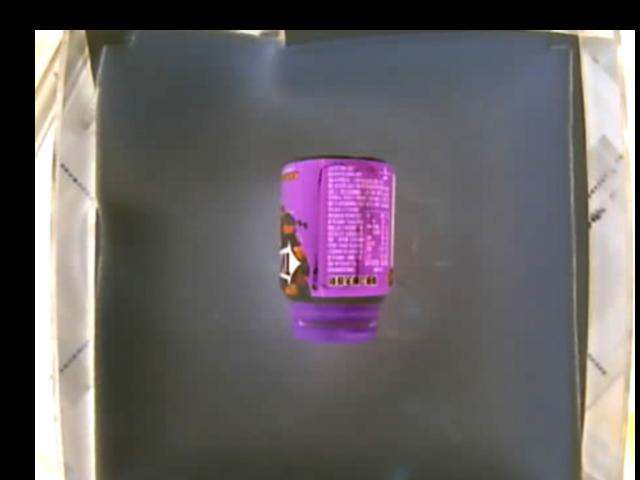Bottle: (278, 156, 395, 346)
